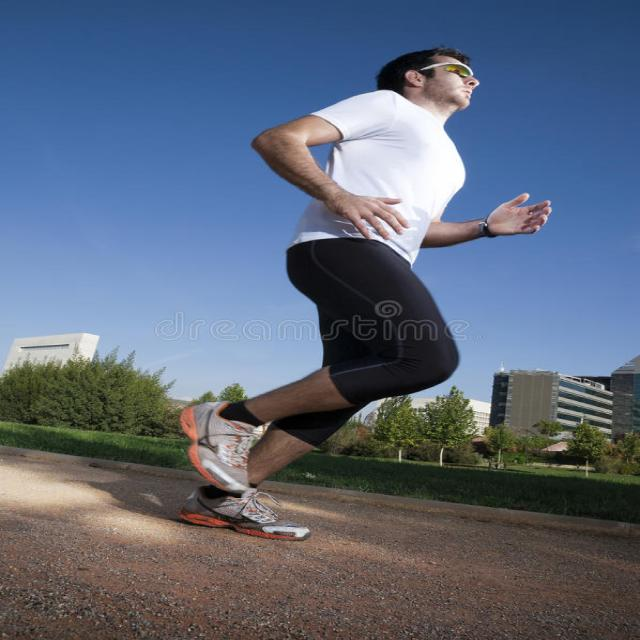running: (171, 44, 549, 546)
